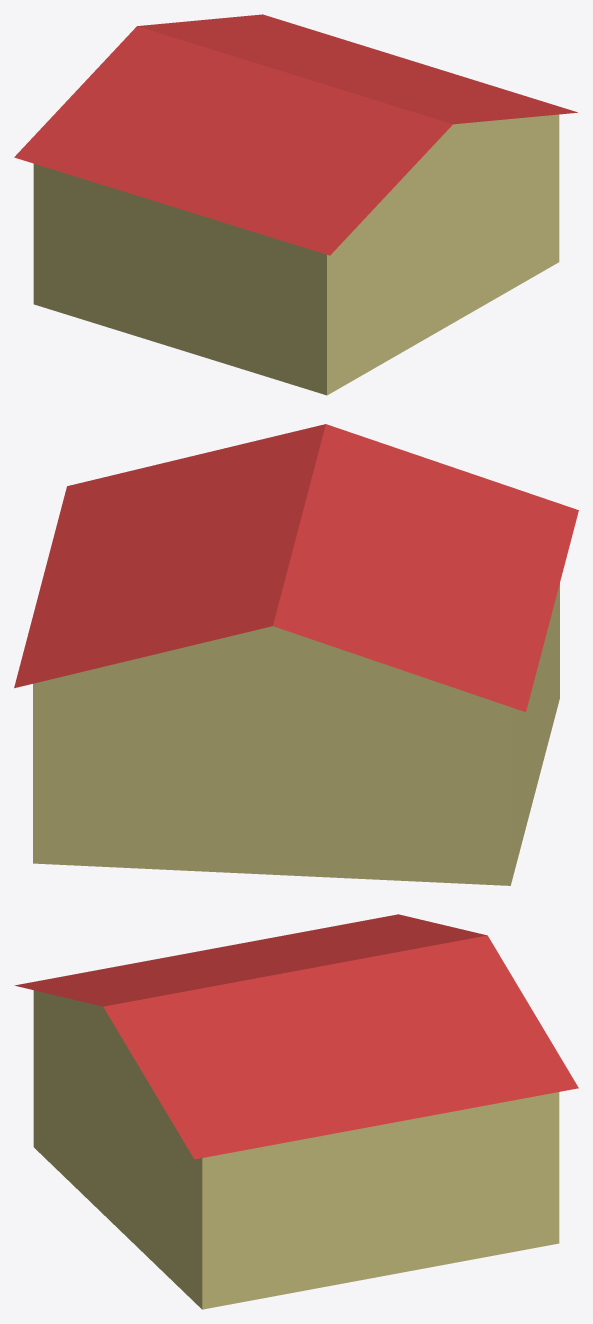
3 renders of one model, top to bottom at view 1: azimuth 30°, elevation 25°; view 2: azimuth 150°, elevation 25°; view 3: azimuth 270°, elevation 25°, orthographic. The views are drawn at different scales.
Bounding box in the file's own units: 28.9 × 28.14 × 12.28.
